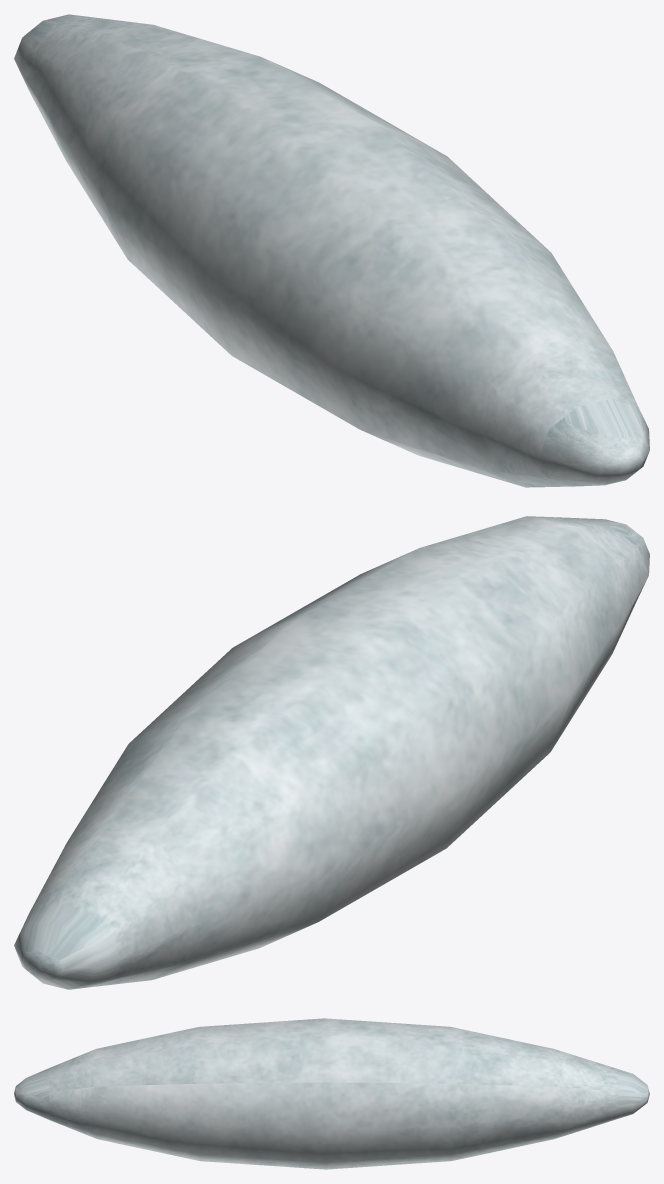
File: para2.fbx
3 renders of one model, top to bottom at view 1: azimuth 30°, elevation 25°; view 2: azimuth 150°, elevation 25°; view 3: azimuth 270°, elevation 25°, orthographic. The views are drawn at different scales.
Parts seen in each view (by area): view 1: paramecium; view 2: paramecium; view 3: paramecium.
Boxes of the visible parts, x1,y1,x2,y2 form: paramecium: (14, 14, 649, 487); paramecium: (14, 516, 649, 989); paramecium: (14, 1018, 649, 1169).
Size of the model in its own units: 56.08 by 48.2 by 214.
2 materials, 1 textured.
